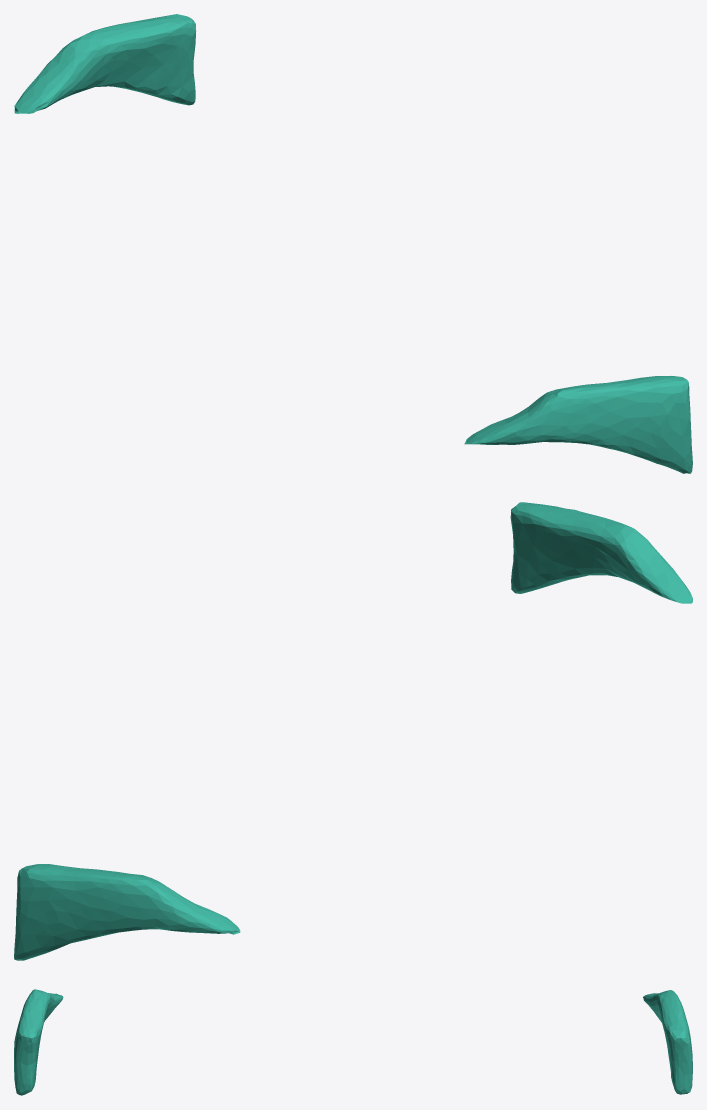
The picture shows the model from 3 angles, top to bottom: view 1: azimuth 30°, elevation 25°; view 2: azimuth 150°, elevation 25°; view 3: azimuth 270°, elevation 25°; orthographic projection. The views are drawn at different scales.
Visible parts, largest first — view 1: 857.obj; view 2: 857.obj; view 3: 857.obj.
Boxes of the visible parts, x1,y1,x2,y2 form: 857.obj: [14, 14, 692, 473]; 857.obj: [14, 502, 692, 960]; 857.obj: [14, 989, 692, 1095].
Bounding box in the file's own units: 1932 × 937 × 8530.
